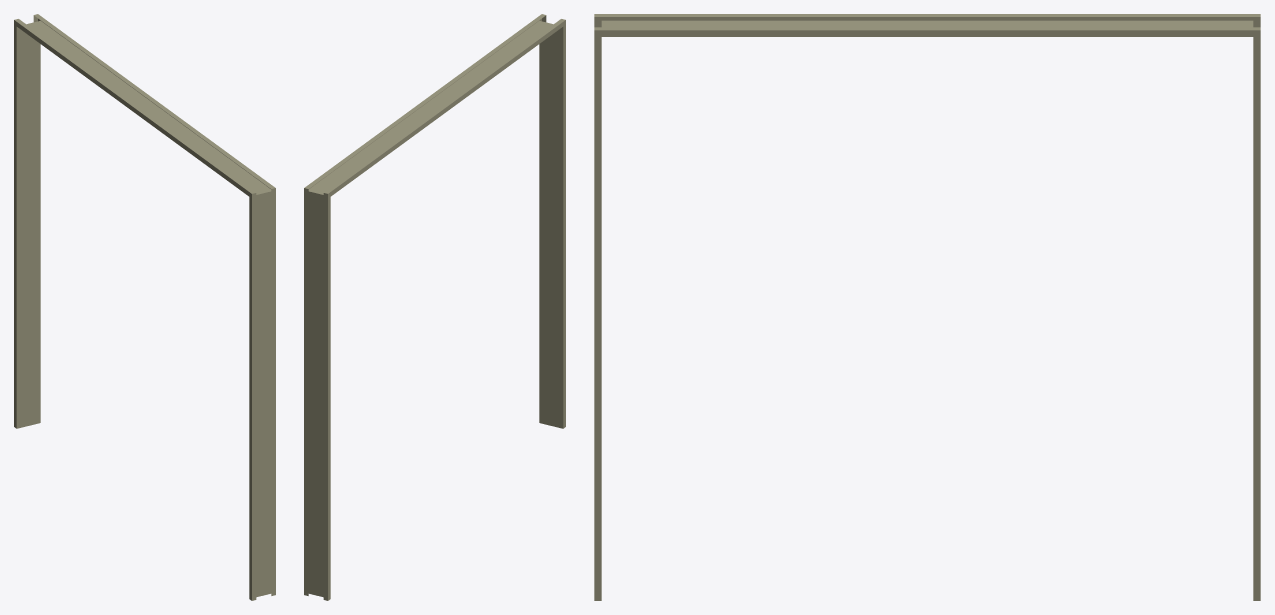
Rendered from waku.FBX.
The picture shows the model from 3 angles, left to right: view 1: azimuth 30°, elevation 25°; view 2: azimuth 150°, elevation 25°; view 3: azimuth 270°, elevation 25°; orthographic projection. The views are drawn at different scales.
Visible parts, largest first — view 1: 49:1:5; view 2: 49:1:5; view 3: 49:1:5.
Boxes of the visible parts, <box> form: 49:1:5: <box>14,14,275,600</box>; 49:1:5: <box>304,14,565,600</box>; 49:1:5: <box>594,14,1260,600</box>.
Size of the model in its own units: 5.16 by 83.66 by 88.58.
